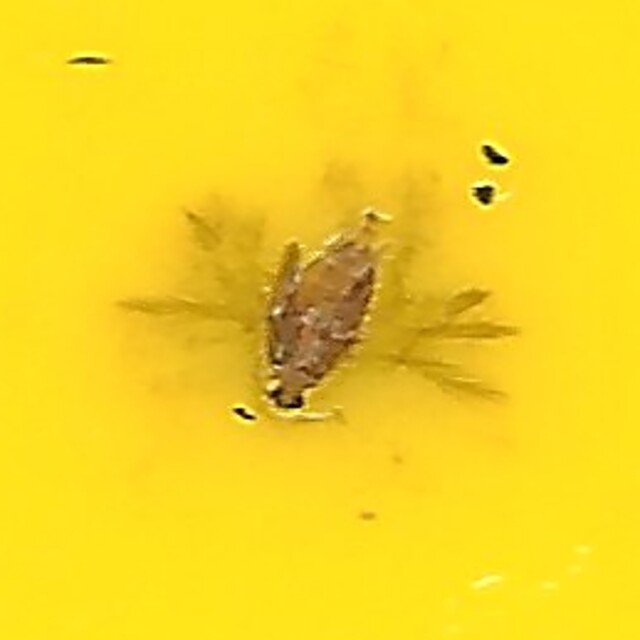Trichoptera: (247, 221, 393, 419)
